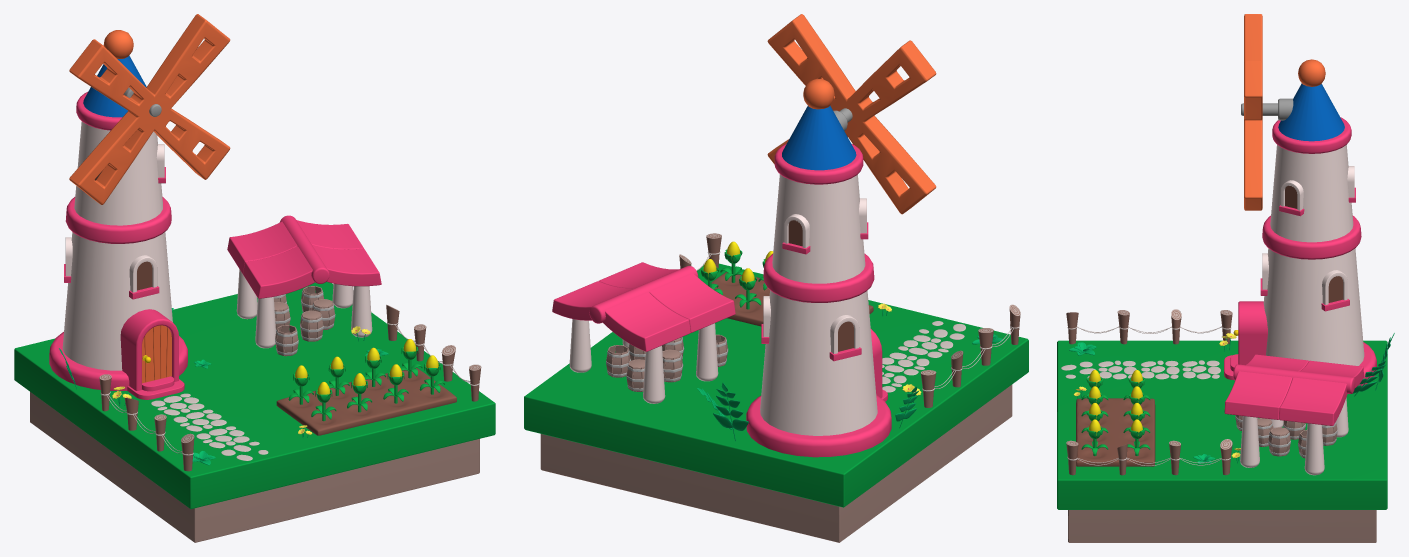
Rendered from Farm_Island_2.glb.
3 views of the same model, side by side, from view 1: azimuth 30°, elevation 25°; view 2: azimuth 150°, elevation 25°; view 3: azimuth 270°, elevation 25° (orthographic). The views are drawn at different scales.
Parts seen in each view (by area): view 1: Farm_2_Base_1, Farm_2_Mill_1, Farm_2_Warehouse_1, Farm_2_Garden_1, Farm_2_Fence_1, Farm_2_Fence_2, Farm_2_Path_4, Farm_2_Path_1, Farm_2_Barrel_6, Farm_2_Path_2, Farm_2_Barrel_4; view 2: Farm_2_Base_1, Farm_2_Mill_1, Farm_2_Warehouse_1, Farm_2_Fence_1, Farm_2_Garden_1, Farm_2_Plant_2, Farm_2_Path_1, Farm_2_Barrel_2, Farm_2_Path_4, Farm_2_Barrel_3; view 3: Farm_2_Base_1, Farm_2_Mill_1, Farm_2_Warehouse_1, Farm_2_Garden_1, Farm_2_Fence_2, Farm_2_Fence_1, Farm_2_Barrel_5, Farm_2_Path_2, Farm_2_Path_4, Farm_2_Path_1.
Boxes of the visible parts, x1,y1,x2,y2 form: Farm_2_Base_1: (14, 282, 495, 542); Farm_2_Mill_1: (49, 14, 230, 399); Farm_2_Warehouse_1: (227, 215, 381, 348); Farm_2_Garden_1: (276, 368, 456, 435); Farm_2_Fence_1: (99, 374, 194, 471); Farm_2_Fence_2: (386, 304, 481, 401); Farm_2_Path_4: (173, 409, 226, 431); Farm_2_Path_1: (196, 426, 249, 448); Farm_2_Barrel_6: (300, 310, 323, 341); Farm_2_Path_2: (151, 393, 204, 415); Farm_2_Barrel_4: (275, 325, 298, 356); Farm_2_Base_1: (524, 263, 1028, 542); Farm_2_Mill_1: (746, 14, 936, 457); Farm_2_Warehouse_1: (552, 262, 735, 403); Farm_2_Fence_1: (920, 304, 1020, 407); Farm_2_Garden_1: (708, 272, 873, 326); Farm_2_Plant_2: (713, 383, 748, 441); Farm_2_Path_1: (898, 335, 953, 357); Farm_2_Barrel_2: (606, 345, 630, 377); Farm_2_Path_4: (882, 352, 929, 375); Farm_2_Barrel_3: (662, 349, 683, 382); Farm_2_Base_1: (1057, 340, 1387, 542); Farm_2_Mill_1: (1224, 14, 1376, 386); Farm_2_Warehouse_1: (1224, 354, 1363, 475); Farm_2_Garden_1: (1076, 398, 1155, 466); Farm_2_Fence_2: (1066, 439, 1232, 475); Farm_2_Fence_1: (1066, 309, 1232, 344); Farm_2_Barrel_5: (1268, 427, 1290, 456); Farm_2_Path_2: (1182, 360, 1220, 379); Farm_2_Path_4: (1141, 360, 1179, 379); Farm_2_Path_1: (1098, 360, 1136, 379).
Size of the model in its own units: 11.7 by 14.96 by 11.44.
Materials: 33 (33 with a texture image).
